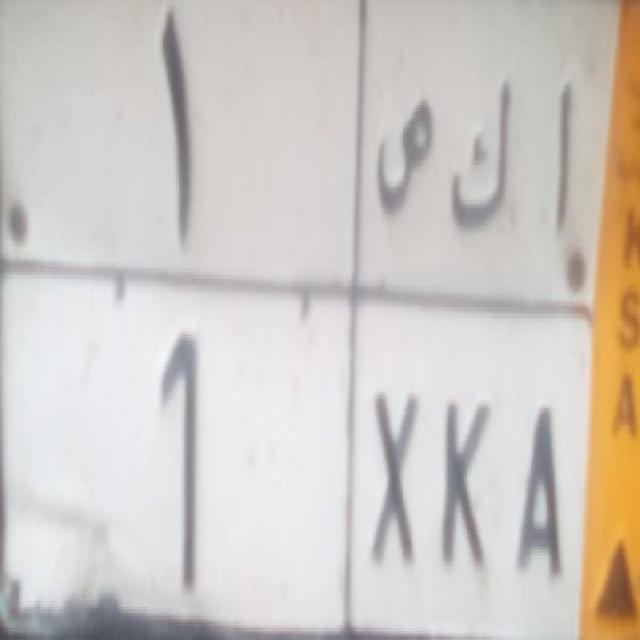license_plate: (0, 258, 590, 640)
